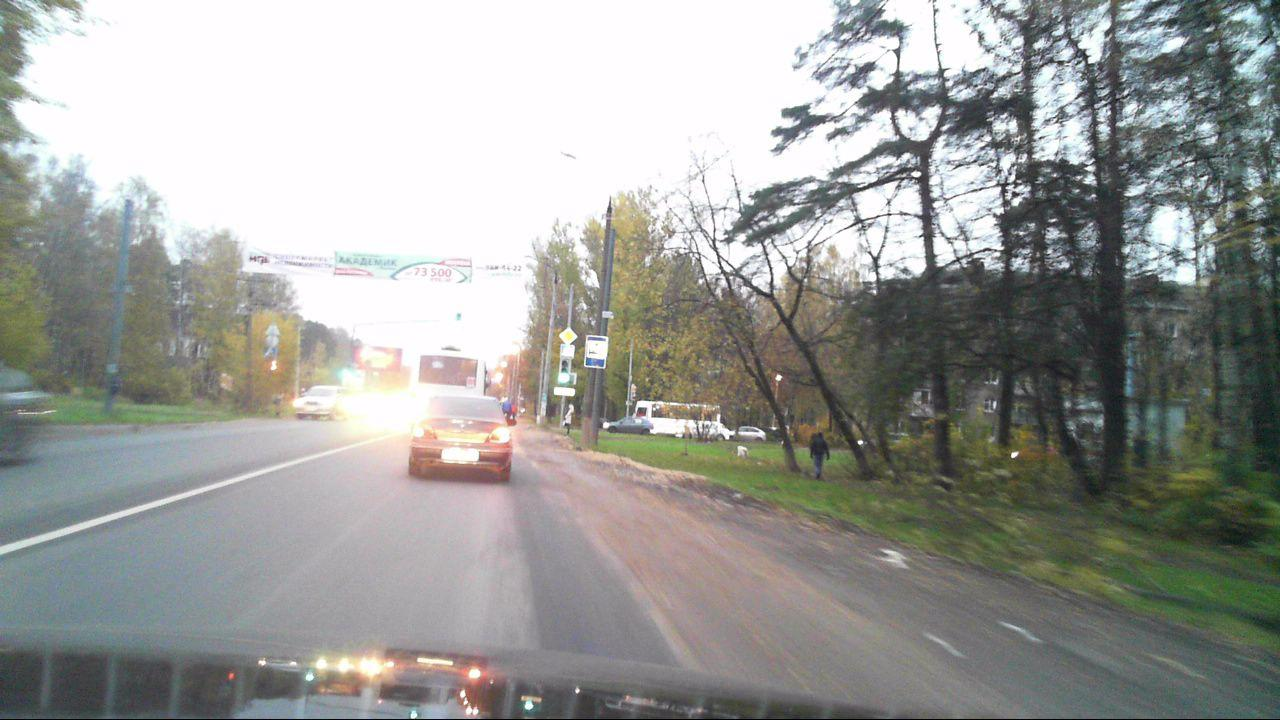2_1: (558, 326, 578, 343)
5_19_1: (559, 343, 575, 359)
5_19_2: (264, 345, 277, 359)
6_16: (552, 384, 579, 399)
7_2: (584, 336, 607, 368)
